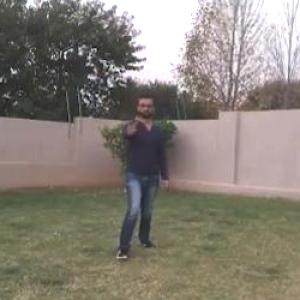takeoff-hand: (117, 110, 140, 140)
